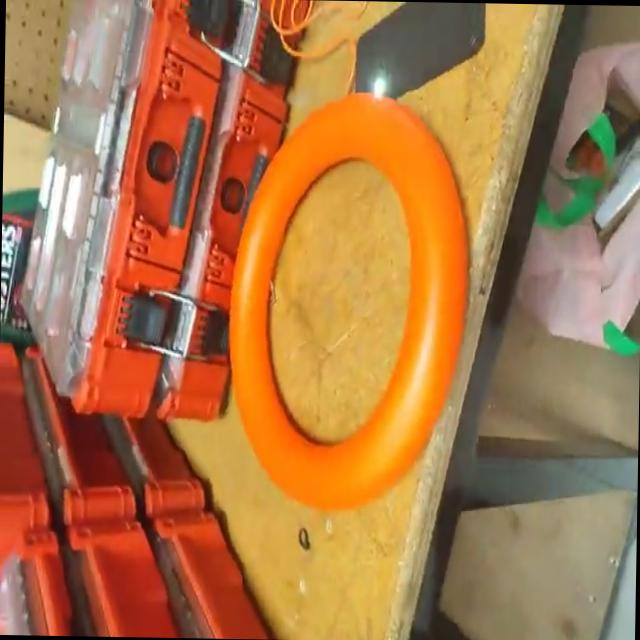note: (225, 89, 472, 519)
